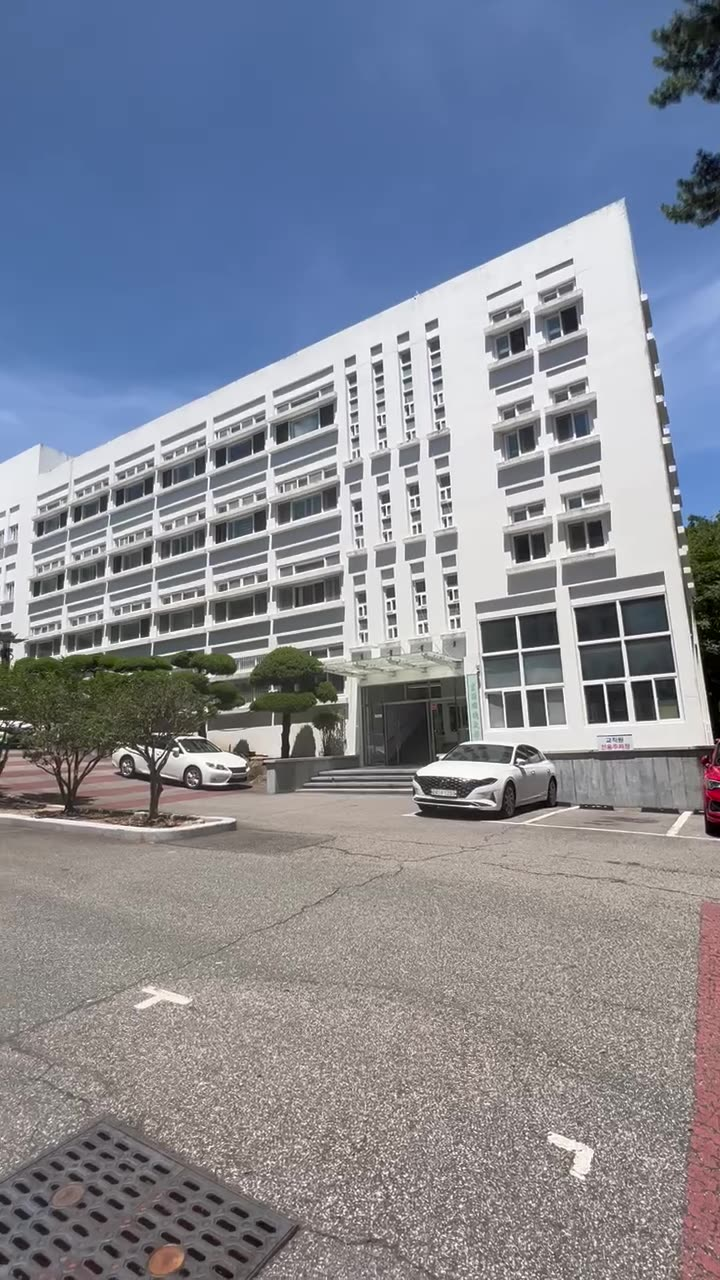low: (34, 216, 720, 710)
